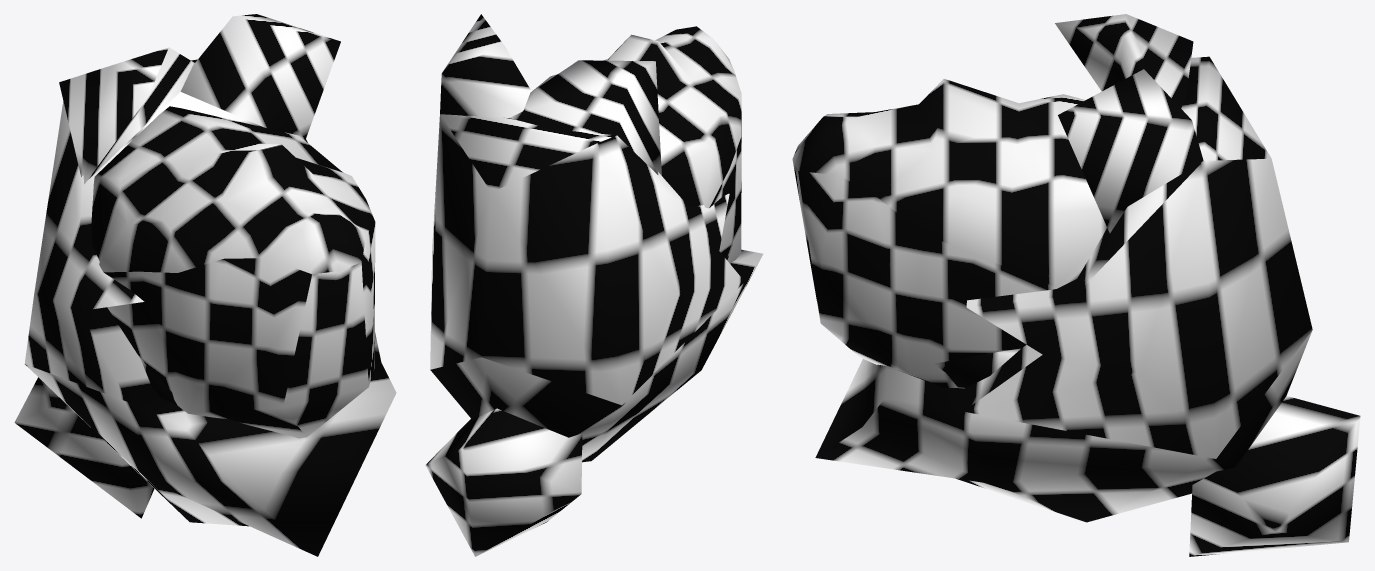
Rendered from infaunhufeme3.dae.
The picture shows the model from 3 angles, left to right: view 1: azimuth 30°, elevation 25°; view 2: azimuth 150°, elevation 25°; view 3: azimuth 270°, elevation 25°; orthographic projection. The views are drawn at different scales.
Visible parts, largest first — view 1: face; view 2: face; view 3: face.
Boxes of the visible parts, bbox=[...] form: face: bbox=[14, 14, 396, 556]; face: bbox=[425, 14, 763, 556]; face: bbox=[792, 14, 1360, 556].
Bounding box in the file's own units: 1.04 × 1.75 × 1.78.
Materials: 1 (1 with a texture image).
